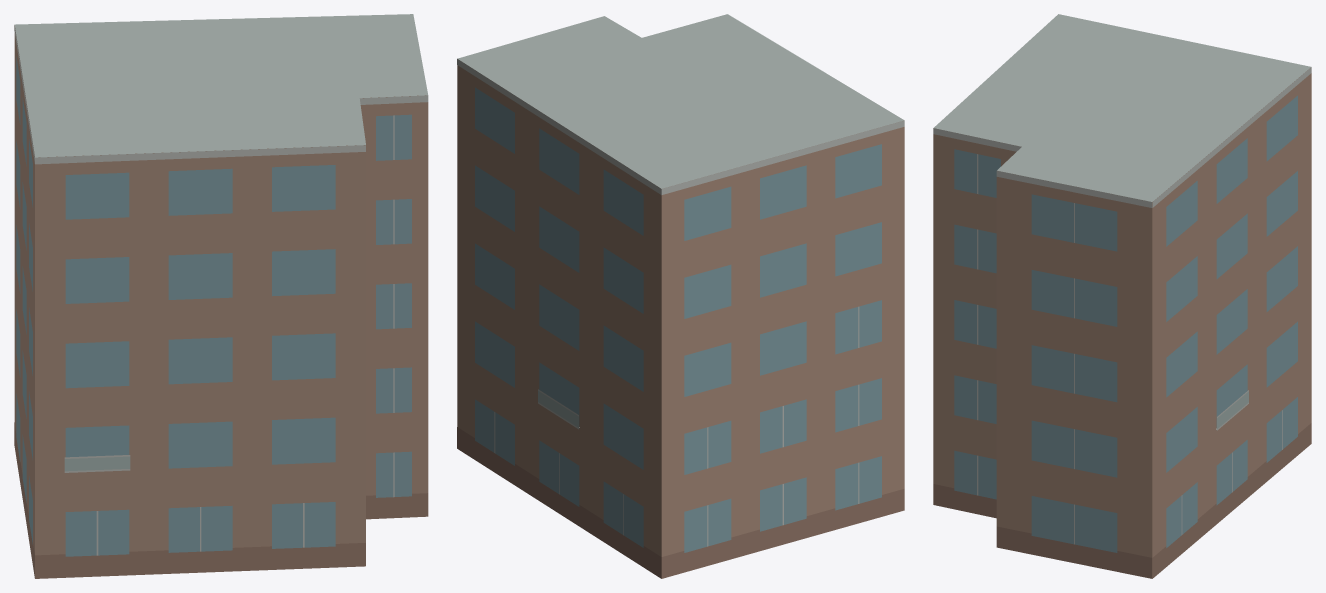
Rendered from survey-upis-32854320.glb.
The picture shows the model from 3 angles, left to right: view 1: azimuth 30°, elevation 25°; view 2: azimuth 150°, elevation 25°; view 3: azimuth 270°, elevation 25°; orthographic projection. The views are drawn at different scales.
Parts seen in each view (by area): view 1: survey-upis-32854320.tmp; view 2: survey-upis-32854320.tmp; view 3: survey-upis-32854320.tmp.
Part boxes in pixels (<box>): survey-upis-32854320.tmp: <box>14,14,428,578</box>; survey-upis-32854320.tmp: <box>457,14,904,578</box>; survey-upis-32854320.tmp: <box>933,14,1311,578</box>.
Bounding box in the file's own units: 16.11 × 15.05 × 13.7.
